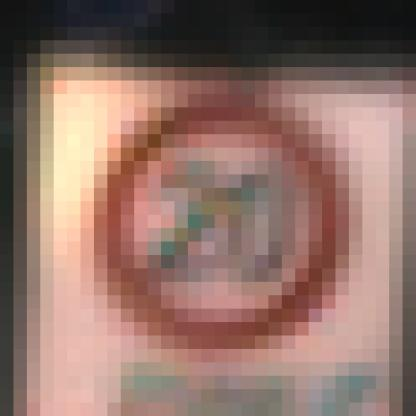Speed Limit 20: (104, 102, 338, 344)
